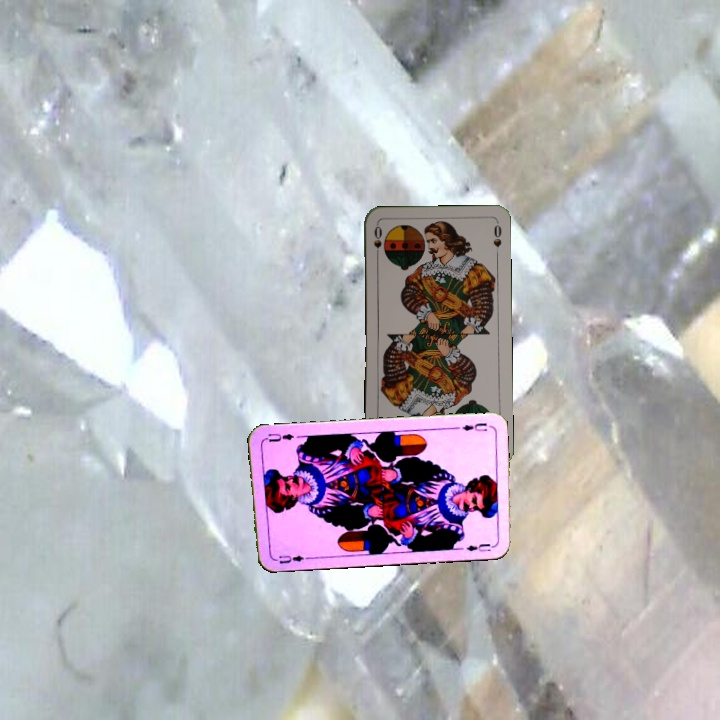EU: (275, 548, 310, 566), (458, 419, 490, 434)
SO: (370, 221, 384, 262)
